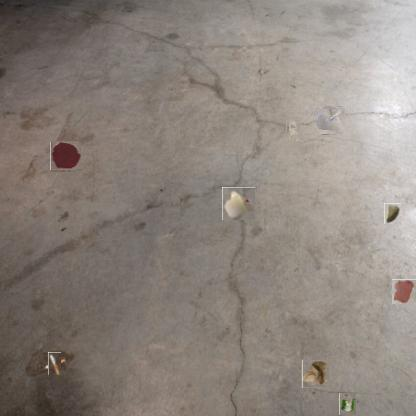dirty: (222, 187, 255, 220), (302, 361, 329, 388), (318, 107, 344, 133), (339, 394, 356, 416), (384, 203, 401, 224), (46, 354, 64, 373), (286, 118, 300, 142)
liquid: (51, 142, 80, 171), (392, 279, 416, 304)
